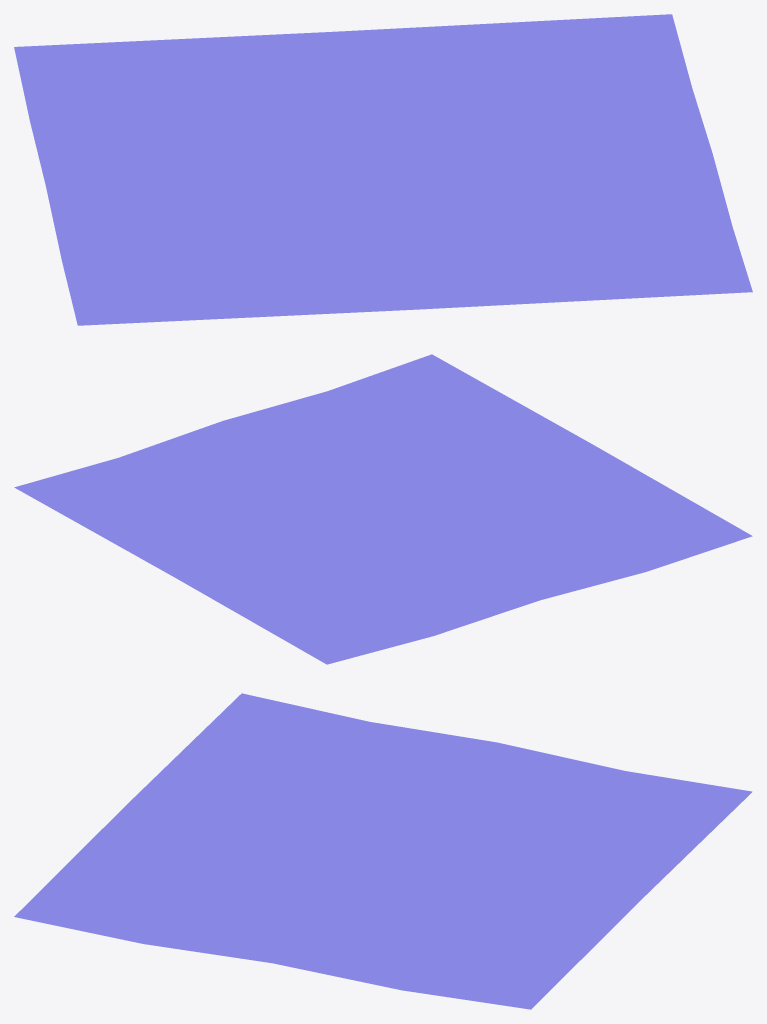
The model's file is track_la_coll_road_21.fbx.
The picture shows the model from 3 angles, top to bottom: view 1: azimuth 30°, elevation 25°; view 2: azimuth 150°, elevation 25°; view 3: azimuth 270°, elevation 25°; orthographic projection. The views are drawn at different scales.
Parts seen in each view (by area): view 1: track_la_coll_road_21; view 2: track_la_coll_road_21; view 3: track_la_coll_road_21.
Boxes of the visible parts, bbox=[...] form: track_la_coll_road_21: bbox=[14, 14, 752, 325]; track_la_coll_road_21: bbox=[14, 354, 752, 664]; track_la_coll_road_21: bbox=[14, 693, 751, 1009].
Size of the model in its own units: 70.97 by 0.4061 by 70.05.
